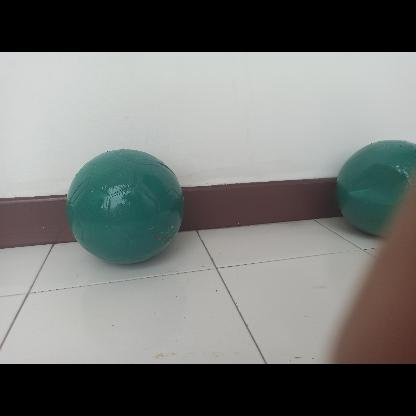green_ball: (66, 147, 184, 265)
